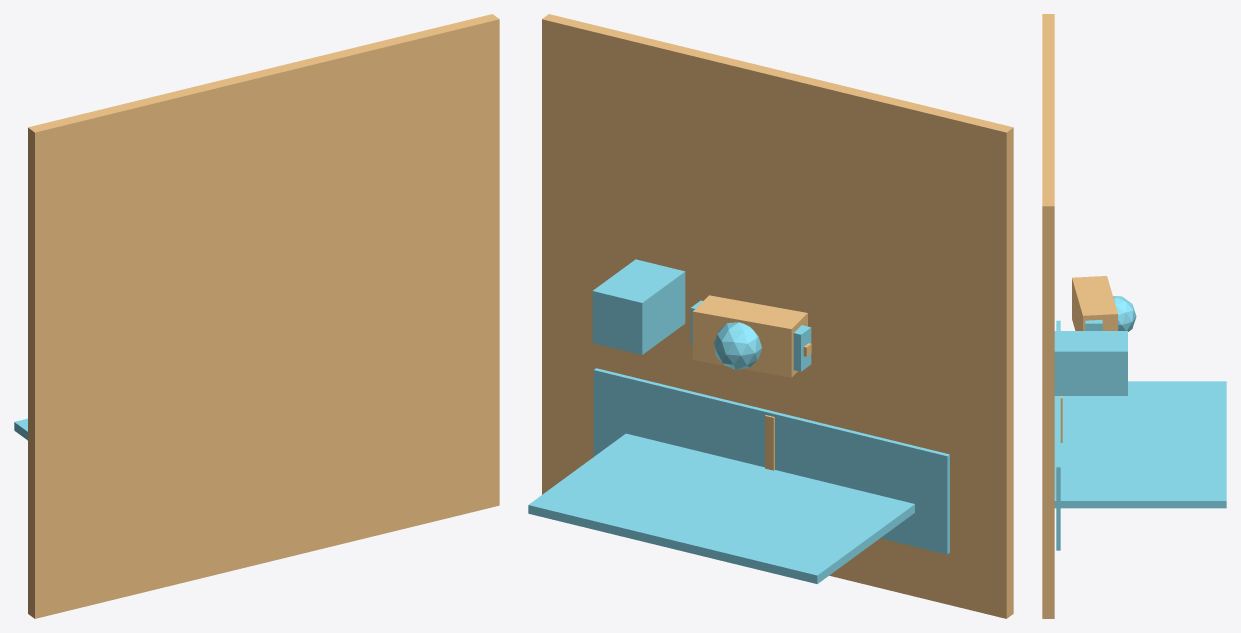
Rendered from motocross-mayhem-kit.glb.
The picture shows the model from 3 angles, left to right: view 1: azimuth 30°, elevation 25°; view 2: azimuth 150°, elevation 25°; view 3: azimuth 270°, elevation 25°; orthographic projection. The views are drawn at different scales.
Visible parts, largest first — view 1: ENVIRONMENT_GROUND; view 2: ENVIRONMENT_GROUND, ENVIRONMENT_GATE, PROFILE_ENVIRONMENT_DETAIL, PROFILE_OBSTACLE_DETAIL, PLAYER_BODY, PLAYER_CORE, PROFILE_PLAYER_DETAIL; view 3: ENVIRONMENT_GATE, ENVIRONMENT_GROUND, PROFILE_OBSTACLE_DETAIL, PLAYER_BODY, PROFILE_ENVIRONMENT_DETAIL, PLAYER_CORE.
Part boxes in pixels (left/top/right/bottom): ENVIRONMENT_GROUND: left=28, top=14, right=499, bottom=618; ENVIRONMENT_GROUND: left=542, top=14, right=1013, bottom=618; ENVIRONMENT_GATE: left=528, top=433, right=914, bottom=584; PROFILE_ENVIRONMENT_DETAIL: left=593, top=368, right=949, bottom=554; PROFILE_OBSTACLE_DETAIL: left=592, top=259, right=685, bottom=354; PLAYER_BODY: left=692, top=295, right=807, bottom=377; PLAYER_CORE: left=714, top=322, right=761, bottom=369; PROFILE_PLAYER_DETAIL: left=690, top=300, right=811, bottom=371; ENVIRONMENT_GATE: left=1054, top=381, right=1226, bottom=508; ENVIRONMENT_GROUND: left=1042, top=14, right=1054, bottom=618; PROFILE_OBSTACLE_DETAIL: left=1054, top=331, right=1127, bottom=395; PLAYER_BODY: left=1072, top=276, right=1117, bottom=330; PROFILE_ENVIRONMENT_DETAIL: left=1056, top=320, right=1060, bottom=550; PLAYER_CORE: left=1113, top=296, right=1136, bottom=331.
Size of what is drawn, in the model's own units: 9 by 9 by 3.64.
